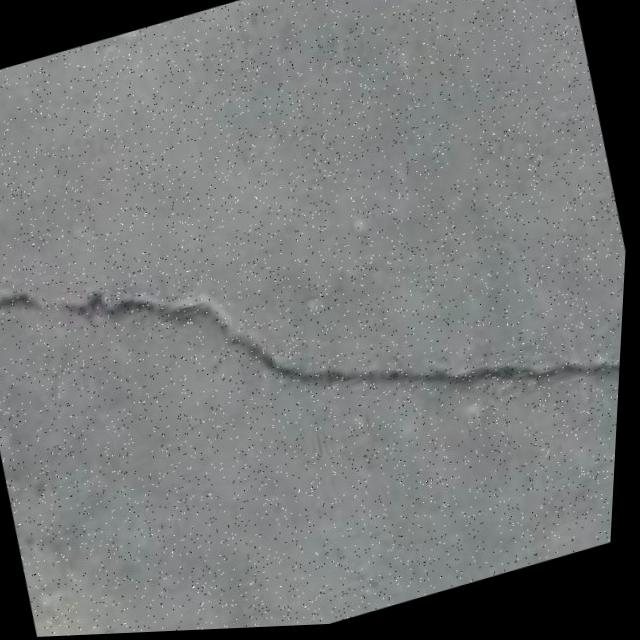Crack: (0, 108, 635, 584)
